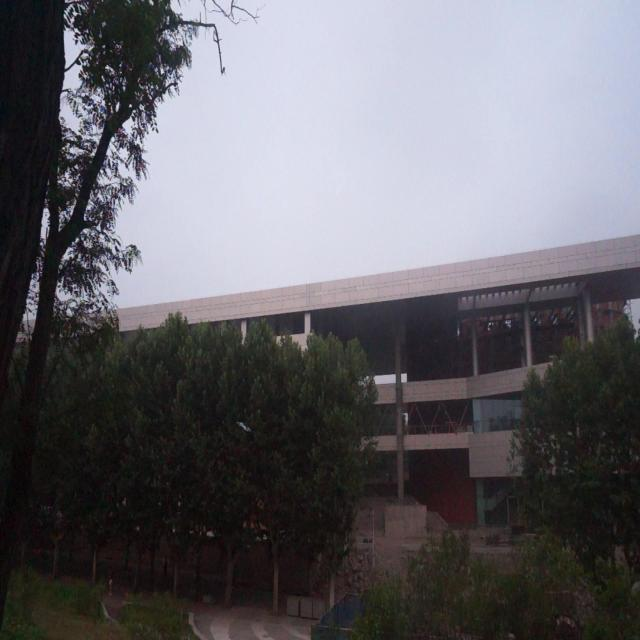drone: (234, 415, 253, 438)
